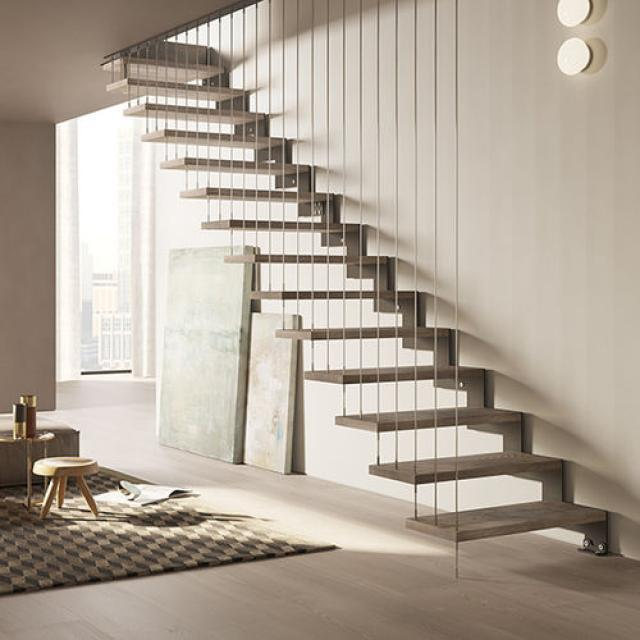stairs: (99, 15, 608, 558)
